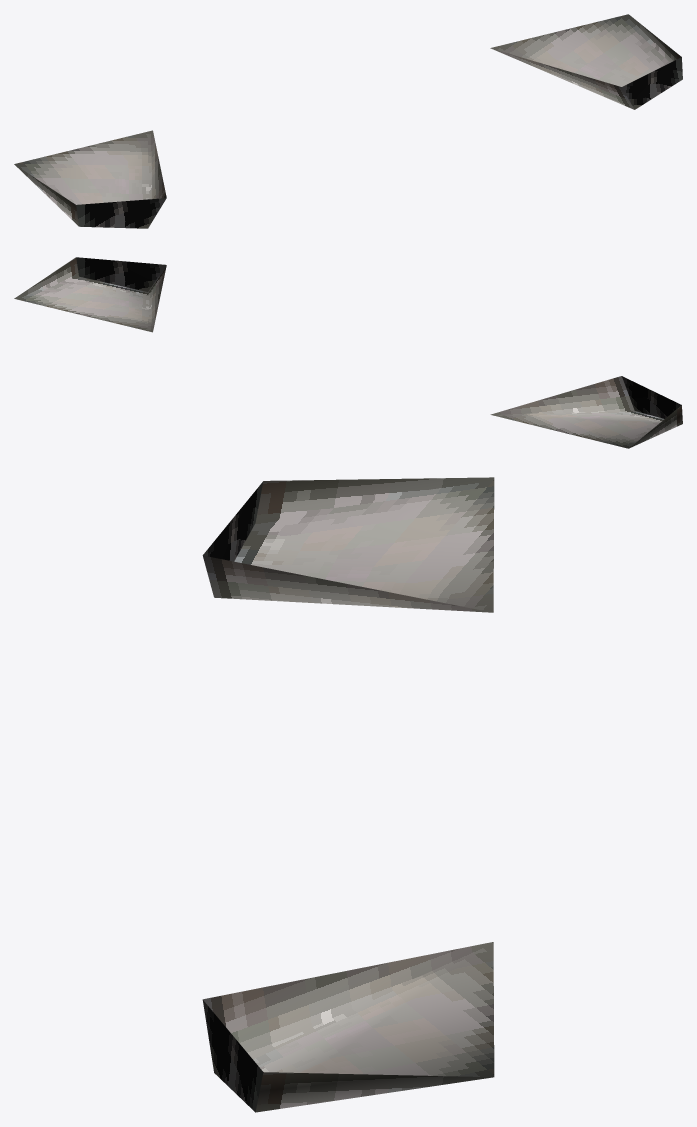
The model's file is hutt_fighter_heavy_missile_pod_s02_l2.fbx.
The picture shows the model from 3 angles, top to bottom: view 1: azimuth 30°, elevation 25°; view 2: azimuth 150°, elevation 25°; view 3: azimuth 270°, elevation 25°; orthographic projection. The views are drawn at different scales.
Parts seen in each view (by area): view 1: mesh_node; view 2: mesh_node; view 3: mesh_node.
Part boxes in pixels (box(x1,y1,x2,y2)): mesh_node: box(14, 14, 682, 228); mesh_node: box(14, 257, 682, 448); mesh_node: box(202, 477, 494, 1112).
Size of the model in its own units: 17.01 by 0.7774 by 3.5.
Materials: 1 (1 with a texture image).
